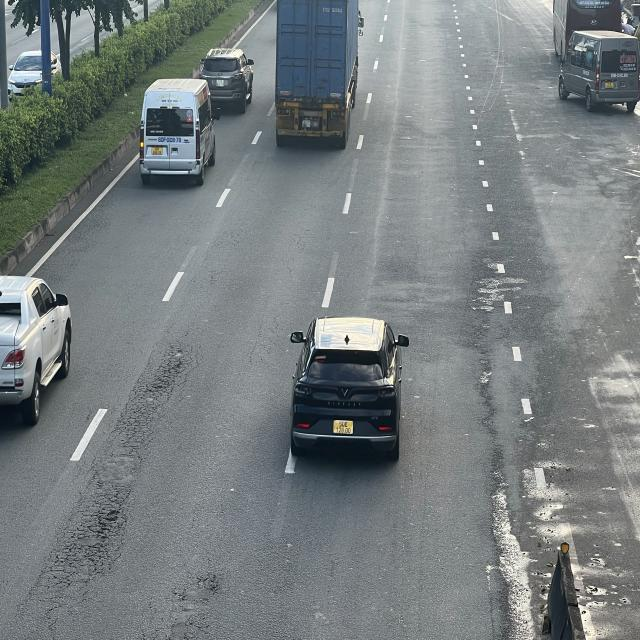car: (289, 314, 409, 457), (0, 276, 72, 426), (200, 46, 256, 112)
container: (276, 1, 366, 151)
van: (141, 80, 220, 188), (554, 30, 638, 110)
